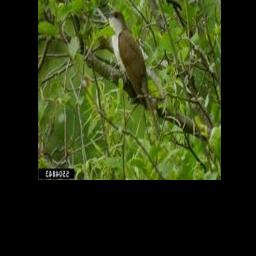Cuckoo: (106, 11, 160, 140)
